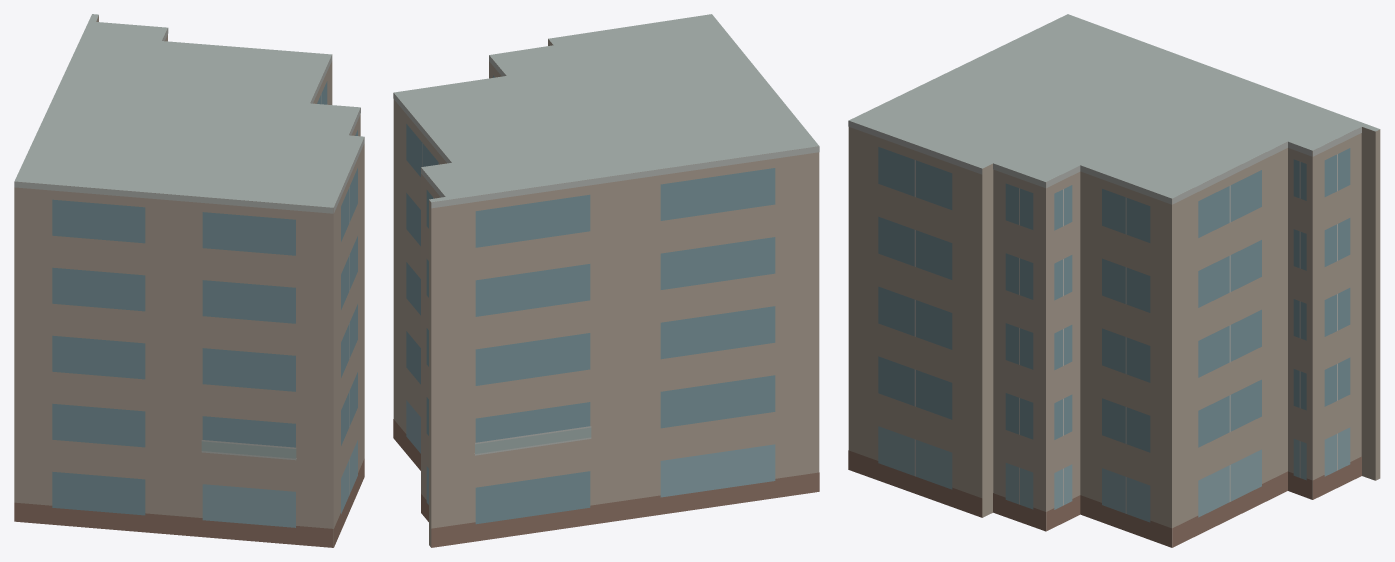
File: survey-upis-32892518.glb
The picture shows the model from 3 angles, left to right: view 1: azimuth 30°, elevation 25°; view 2: azimuth 150°, elevation 25°; view 3: azimuth 270°, elevation 25°; orthographic projection. The views are drawn at different scales.
Visible parts, largest first — view 1: survey-upis-32892518.tmp; view 2: survey-upis-32892518.tmp; view 3: survey-upis-32892518.tmp.
Boxes of the visible parts, <box> form: survey-upis-32892518.tmp: <box>14,14,364,547</box>; survey-upis-32892518.tmp: <box>393,14,819,547</box>; survey-upis-32892518.tmp: <box>848,14,1380,547</box>.
Bounding box in the file's own units: 15.77 × 13.9 × 19.19.
